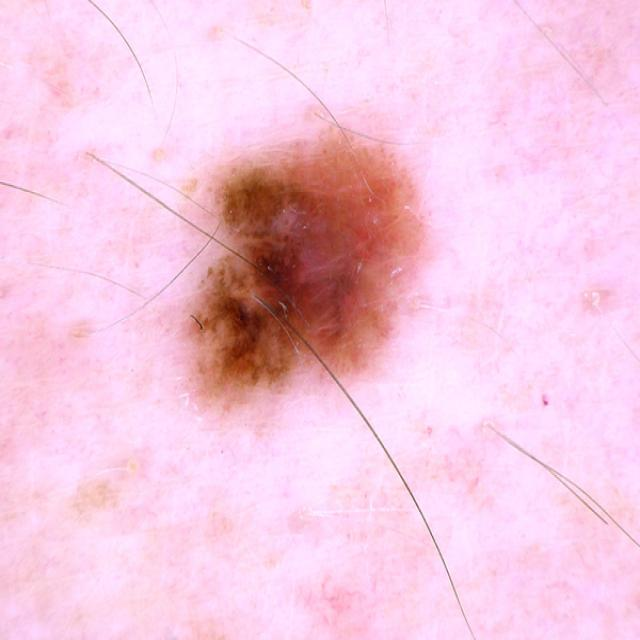MEL: (177, 124, 429, 418)
